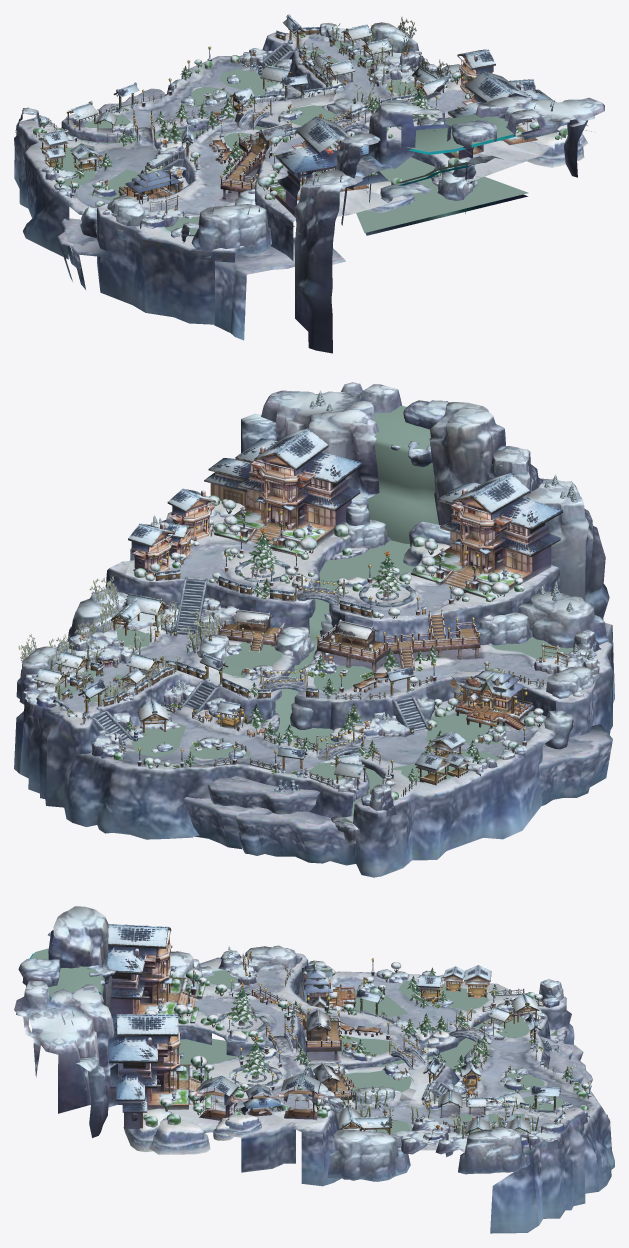
Rendered from febg_hotspring_001_01.glb.
The picture shows the model from 3 angles, top to bottom: view 1: azimuth 30°, elevation 25°; view 2: azimuth 150°, elevation 25°; view 3: azimuth 270°, elevation 25°; orthographic projection. The views are drawn at different scales.
Visible parts, largest first — view 1: febg_hotspring_001_bg_01, febg_hotspring_001_cliff_01, febg_hotspring_001_water_01, febg_hotspring_001_ryokan_02, febg_hotspring_001_cliff_02 (1), febg_hotspring_001_ryokan_01, febg_hotspring_001_waterfall_01, febg_hotspring_001_ryokan_05, febg_hotspring_001_stone_03 (5) (×2), febg_hotspring_001_cliff_05 (4), febg_hotspring_001_cliff_02 (4), febg_hotspring_001_pavilion_05 (+6 smaller); view 2: febg_hotspring_001_bg_01, febg_hotspring_001_cliff_01, febg_hotspring_001_ryokan_01, febg_hotspring_001_water_01, febg_hotspring_001_ryokan_02, febg_hotspring_001_waterfall_01, febg_hotspring_001_ryokan_05, febg_hotspring_001_cliff_02 (1), febg_hotspring_001_pavilion_04, febg_hotspring_001_pavilion_05, febg_hotspring_001_ryokan_04 (1), febg_hotspring_001_ryokan_04 (2) (+17 smaller); view 3: febg_hotspring_001_bg_01, febg_hotspring_001_cliff_01, febg_hotspring_001_ryokan_01, febg_hotspring_001_water_01, febg_hotspring_001_ryokan_02, febg_hotspring_001_cliff_02 (2), febg_hotspring_001_cliff_02 (7), febg_hotspring_001_stone_03 (5) (×2), febg_hotspring_001_ryokan_05, febg_hotspring_001_pavilion_04, febg_hotspring_001_ryokan_04 (1), febg_hotspring_001_ryokan_04 (2) (+16 smaller).
Boxes of the visible parts, <box> form: febg_hotspring_001_bg_01: <box>14,32,551,340</box>; febg_hotspring_001_cliff_01: <box>294,96,604,353</box>; febg_hotspring_001_water_01: <box>51,40,528,235</box>; febg_hotspring_001_ryokan_02: <box>265,116,388,217</box>; febg_hotspring_001_cliff_02 (1): <box>191,204,271,257</box>; febg_hotspring_001_ryokan_01: <box>443,71,587,158</box>; febg_hotspring_001_waterfall_01: <box>397,114,513,182</box>; febg_hotspring_001_ryokan_05: <box>110,165,188,203</box>; febg_hotspring_001_stone_03 (5) (×2): <box>361,133,584,212</box>; febg_hotspring_001_cliff_05 (4): <box>336,133,380,190</box>; febg_hotspring_001_cliff_02 (4): <box>107,196,148,240</box>; febg_hotspring_001_pavilion_05: <box>220,144,264,199</box>; febg_hotspring_001_bg_01: <box>14,513,614,877</box>; febg_hotspring_001_cliff_01: <box>241,382,609,619</box>; febg_hotspring_001_ryokan_01: <box>204,428,362,557</box>; febg_hotspring_001_water_01: <box>57,540,573,823</box>; febg_hotspring_001_ryokan_02: <box>410,473,562,599</box>; febg_hotspring_001_waterfall_01: <box>368,405,438,543</box>; febg_hotspring_001_ryokan_05: <box>450,661,533,730</box>; febg_hotspring_001_cliff_02 (1): <box>518,591,608,648</box>; febg_hotspring_001_pavilion_04: <box>317,619,392,672</box>; febg_hotspring_001_pavilion_05: <box>385,621,480,672</box>; febg_hotspring_001_ryokan_04 (1): <box>128,522,174,574</box>; febg_hotspring_001_ryokan_04 (2): <box>167,488,215,540</box>; febg_hotspring_001_bg_01: <box>122,953,614,1233</box>; febg_hotspring_001_cliff_01: <box>14,906,119,1137</box>; febg_hotspring_001_ryokan_01: <box>109,1014,210,1128</box>; febg_hotspring_001_water_01: <box>175,970,563,1135</box>; febg_hotspring_001_ryokan_02: <box>107,924,205,1023</box>; febg_hotspring_001_cliff_02 (2): <box>327,1129,410,1181</box>; febg_hotspring_001_cliff_02 (7): <box>458,1126,530,1174</box>; febg_hotspring_001_stone_03 (5) (×2): <box>123,1108,210,1154</box>; febg_hotspring_001_ryokan_05: <box>301,960,355,1011</box>; febg_hotspring_001_pavilion_04: <box>304,1008,341,1060</box>; febg_hotspring_001_ryokan_04 (1): <box>276,1073,325,1120</box>; febg_hotspring_001_ryokan_04 (2): <box>193,1075,241,1120</box>.
Size of the model in its own units: 159 by 71.01 by 176.
13 materials, 12 textured.
